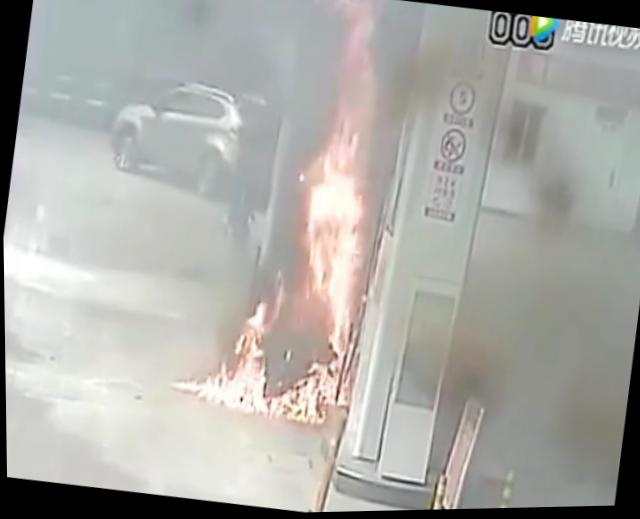fire: (319, 27, 373, 166), (303, 218, 363, 296), (308, 159, 366, 226), (197, 364, 269, 411), (229, 300, 266, 380), (263, 389, 330, 426), (294, 360, 340, 399), (323, 293, 350, 355), (169, 377, 199, 392)
